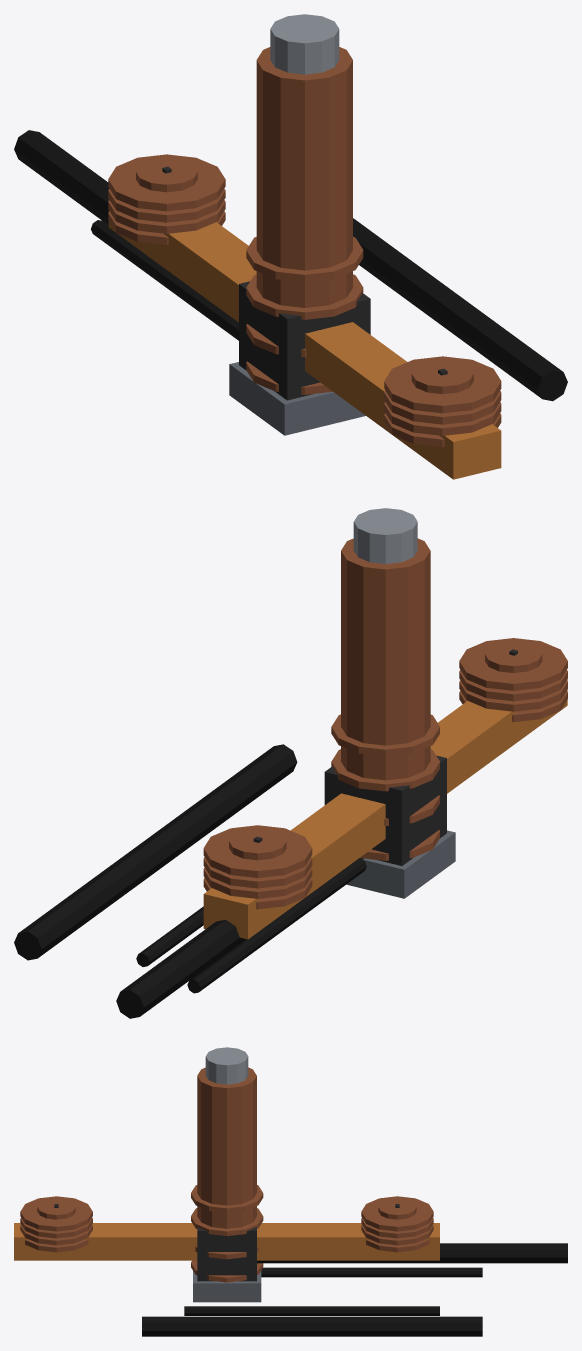
The model's file is ENV_RoofEquipment.fbx.
The picture shows the model from 3 angles, top to bottom: view 1: azimuth 30°, elevation 25°; view 2: azimuth 150°, elevation 25°; view 3: azimuth 270°, elevation 25°; orthographic projection. The views are drawn at different scales.
Visible parts, largest first — view 1: Arrester, Busbar, HV_Cable_Parked, Busbar_Support_2, Busbar_Support_1, HV_Cable_End, Insulator, Roof_CarBodyGround, HV_Cable_Connected, Arrester_Cap, CtrlCable_Connected; view 2: Arrester, Busbar, HV_Cable_Parked, Busbar_Support_2, Busbar_Support_1, HV_Cable_End, HV_Cable_Connected, Insulator, Arrester_Cap, Roof_CarBodyGround, CtrlCable_Connected, CtrlCable_Parked; view 3: Busbar, Arrester, HV_Cable_Parked, HV_Cable_Connected, Busbar_Support_1, Busbar_Support_2, CtrlCable_Parked, HV_Cable_End, CtrlCable_Connected, Insulator, Roof_CarBodyGround, Arrester_Cap.
Boxes of the visible parts, x1=… form: Arrester: x1=256, y1=47, x2=352, y2=307; Busbar: x1=108, y1=158, x2=501, y2=479; HV_Cable_Parked: x1=353, y1=218, x2=567, y2=401; Busbar_Support_2: x1=108, y1=154, x2=225, y2=244; Busbar_Support_1: x1=384, y1=356, x2=501, y2=446; HV_Cable_End: x1=239, y1=281, x2=370, y2=400; Insulator: x1=246, y1=237, x2=363, y2=394; Roof_CarBodyGround: x1=229, y1=362, x2=365, y2=435; HV_Cable_Connected: x1=14, y1=130, x2=109, y2=224; Arrester_Cap: x1=270, y1=14, x2=339, y2=74; CtrlCable_Connected: x1=91, y1=220, x2=238, y2=340; Arrester: x1=341, y1=538, x2=430, y2=780; Busbar: x1=203, y1=642, x2=567, y2=939; HV_Cable_Parked: x1=14, y1=744, x2=297, y2=960; Busbar_Support_2: x1=203, y1=825, x2=312, y2=909; Busbar_Support_1: x1=459, y1=638, x2=567, y2=722; HV_Cable_End: x1=324, y1=755, x2=446, y2=865; HV_Cable_Connected: x1=116, y1=919, x2=245, y2=1018; Insulator: x1=331, y1=714, x2=439, y2=860; Arrester_Cap: x1=353, y1=508, x2=417, y2=563; Roof_CarBodyGround: x1=346, y1=830, x2=455, y2=898; CtrlCable_Connected: x1=187, y1=858, x2=366, y2=993; CtrlCable_Parked: x1=136, y1=906, x2=203, y2=966; Busbar: x1=14, y1=1199, x2=439, y2=1260; Arrester: x1=197, y1=1067, x2=256, y2=1228; HV_Cable_Parked: x1=142, y1=1316, x2=482, y2=1336; HV_Cable_Connected: x1=257, y1=1243, x2=567, y2=1263; Busbar_Support_1: x1=20, y1=1196, x2=92, y2=1252; Busbar_Support_2: x1=361, y1=1196, x2=433, y2=1252; CtrlCable_Parked: x1=184, y1=1306, x2=439, y2=1315; HV_Cable_End: x1=197, y1=1227, x2=256, y2=1281; CtrlCable_Connected: x1=261, y1=1267, x2=482, y2=1277; Insulator: x1=191, y1=1185, x2=263, y2=1282; Roof_CarBodyGround: x1=193, y1=1271, x2=261, y2=1302; Arrester_Cap: x1=205, y1=1047, x2=248, y2=1084.
Bounding box in the file's own units: 0.41 × 0.61 × 1.3.
Materials: 3 (3 with a texture image).
